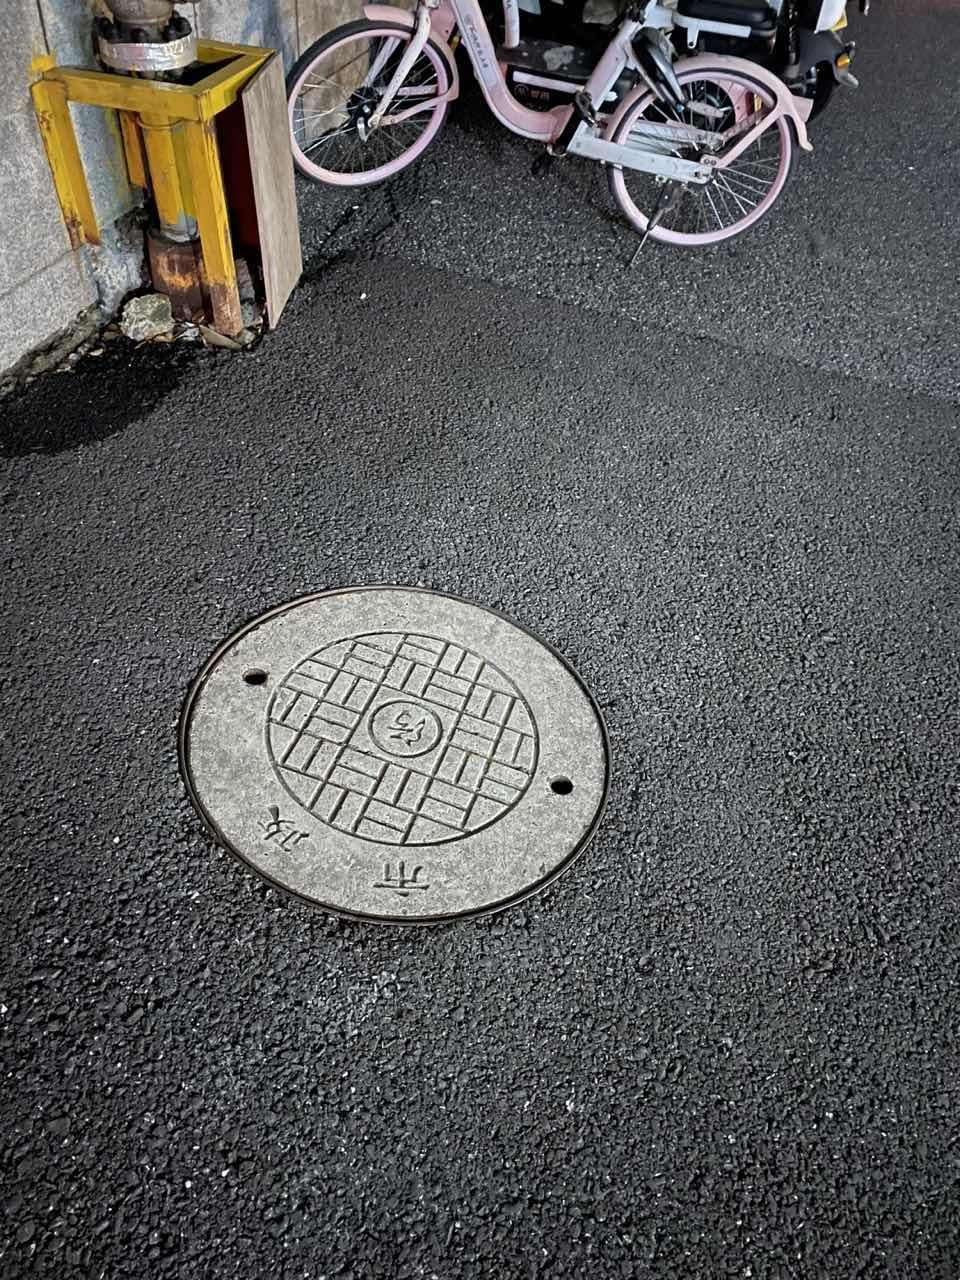wellcover: (151, 548, 644, 937)
